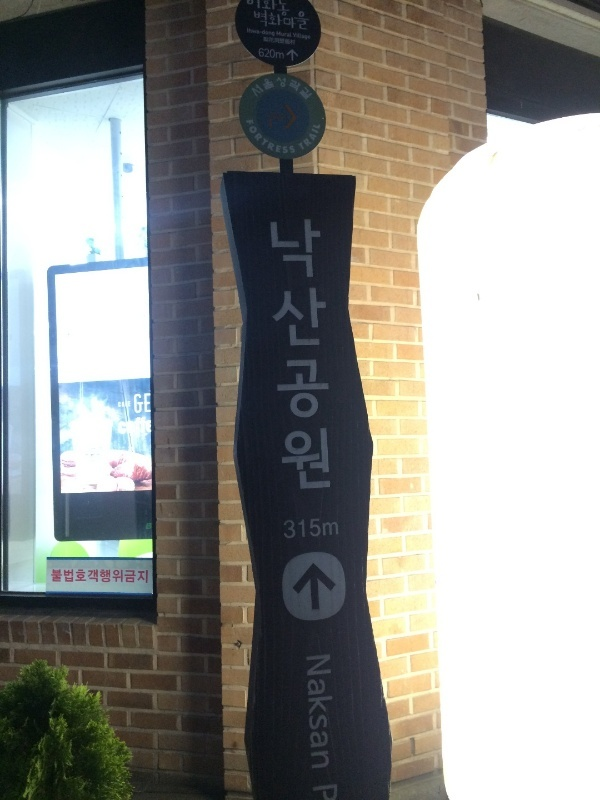text: (273, 217, 288, 496), (289, 217, 304, 496), (305, 217, 320, 496), (321, 217, 336, 496), (305, 654, 320, 774), (321, 654, 335, 774), (269, 217, 272, 496), (289, 518, 304, 546), (305, 518, 320, 546), (321, 518, 336, 546), (257, 9, 272, 32), (273, 9, 288, 32), (289, 9, 304, 32), (273, 136, 288, 157), (305, 84, 320, 102), (65, 568, 80, 585), (81, 568, 96, 585), (97, 568, 112, 585), (113, 568, 128, 585), (129, 568, 144, 585), (133, 393, 144, 414), (257, 27, 272, 42), (273, 27, 288, 42), (289, 27, 304, 42), (290, 78, 304, 94), (51, 568, 64, 585), (258, 47, 272, 61), (263, 136, 272, 157), (257, 118, 263, 146), (273, 47, 285, 61), (313, 122, 320, 144), (262, 78, 272, 93), (145, 393, 152, 414), (257, 82, 265, 100), (277, 76, 288, 89), (283, 518, 288, 546), (247, 27, 256, 42), (296, 137, 304, 153), (305, 137, 313, 153), (289, 136, 295, 157), (305, 9, 310, 32), (251, 82, 256, 100), (305, 27, 311, 42), (337, 518, 340, 546), (253, 118, 256, 146), (118, 401, 128, 409), (145, 568, 149, 585), (254, 9, 256, 32), (273, 78, 275, 93), (321, 122, 322, 144), (129, 401, 131, 409)
